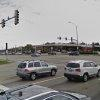Traffic light: (2, 7, 37, 33)
